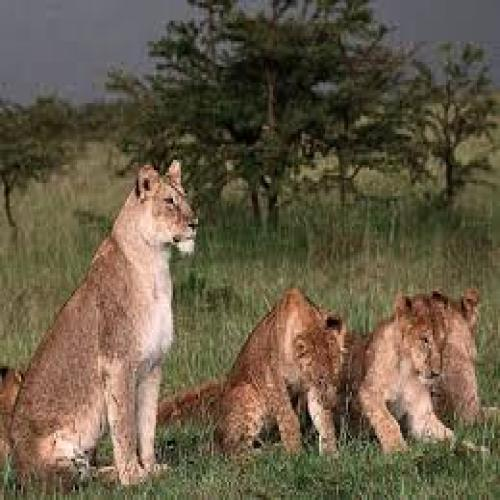lion-endangered: (0, 158, 198, 483), (168, 287, 350, 458), (352, 291, 485, 453)
